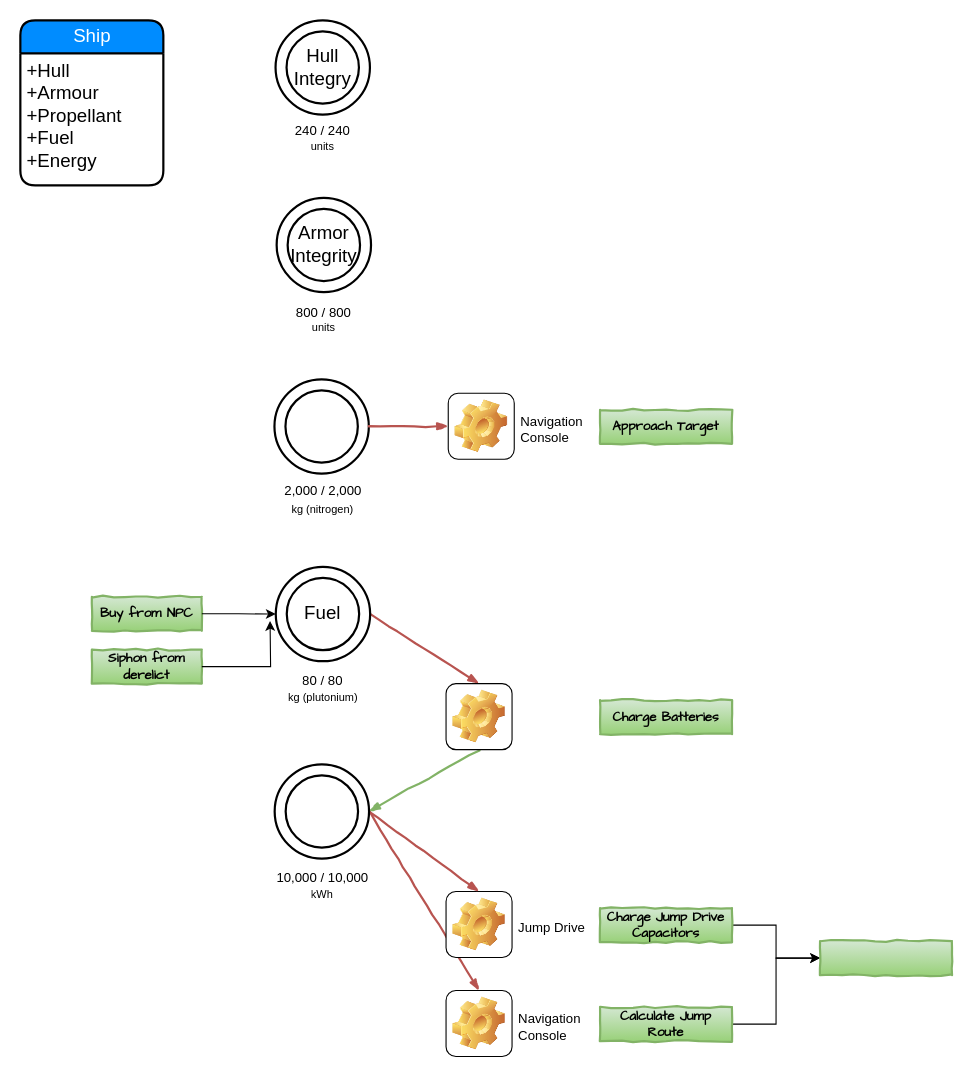
The diagram is 971 pixels wide and 1076 high, and some of its shapes have lost their labels. The shapes that lost their labels are listed below. From the top down, each one's centre as x and y in pixels, then its label:
point (321, 426): Propellant
point (478, 716): Generator
point (321, 811): Energy
point (885, 957): Initiate Jump
